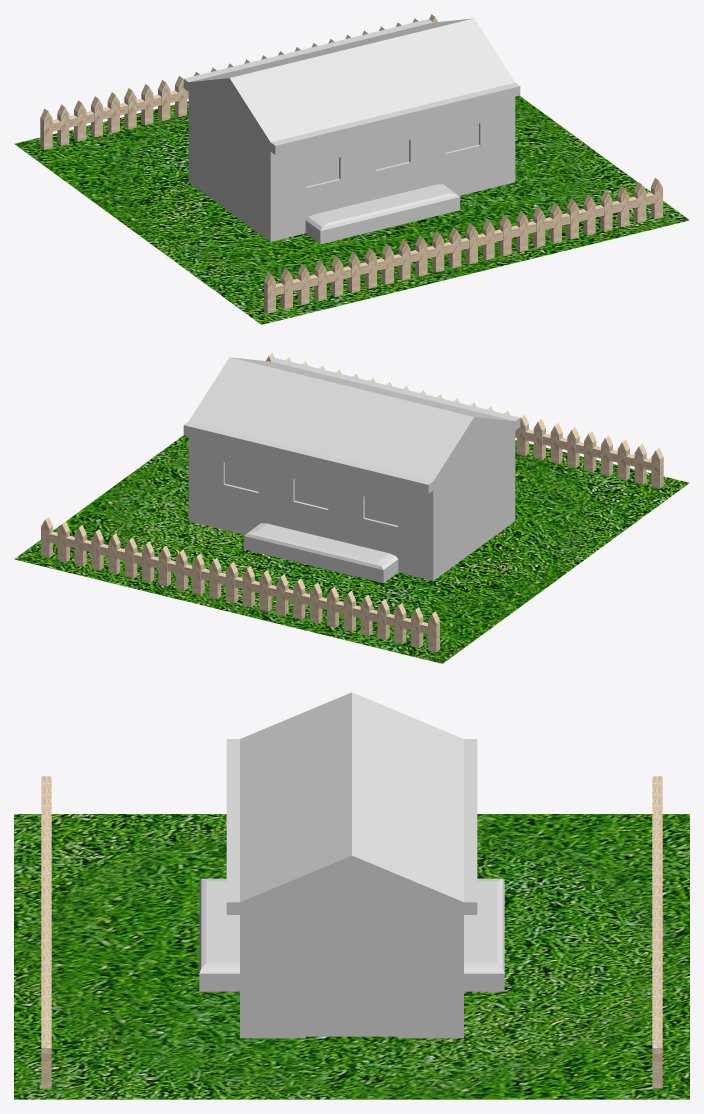
File: casatexturizada.fbx
The picture shows the model from 3 angles, top to bottom: view 1: azimuth 30°, elevation 25°; view 2: azimuth 150°, elevation 25°; view 3: azimuth 270°, elevation 25°; orthographic projection. The views are drawn at different scales.
Parts seen in each view (by area): view 1: Cube, Plane, Cube.001, Cube.002; view 2: Cube, Plane, Cube.001, Cube.002; view 3: Plane, Cube, Cube.001.
Part boxes in pixels (x1=…): Cube: x1=183, y1=18, x2=520, y2=244; Plane: x1=14, y1=95, x2=689, y2=324; Cube.001: x1=40, y1=14, x2=662, y2=313; Cube.002: x1=52, y1=90, x2=654, y2=295; Cube: x1=183, y1=357, x2=520, y2=583; Plane: x1=14, y1=434, x2=689, y2=663; Cube.001: x1=41, y1=353, x2=663, y2=652; Cube.002: x1=49, y1=429, x2=651, y2=634; Plane: x1=14, y1=814, x2=689, y2=1099; Cube: x1=199, y1=692, x2=504, y2=1038; Cube.001: x1=41, y1=776, x2=662, y2=1088.
Size of the model in its own units: 900 by 270 by 900.
4 materials, 3 textured.
